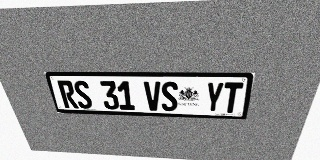1: (116, 81, 135, 110)
3: (99, 81, 120, 110)
R: (57, 80, 79, 108)
S: (72, 81, 93, 109), (161, 81, 178, 111)
T: (221, 82, 243, 113)
V: (144, 81, 161, 111)
Y: (204, 82, 224, 113)
